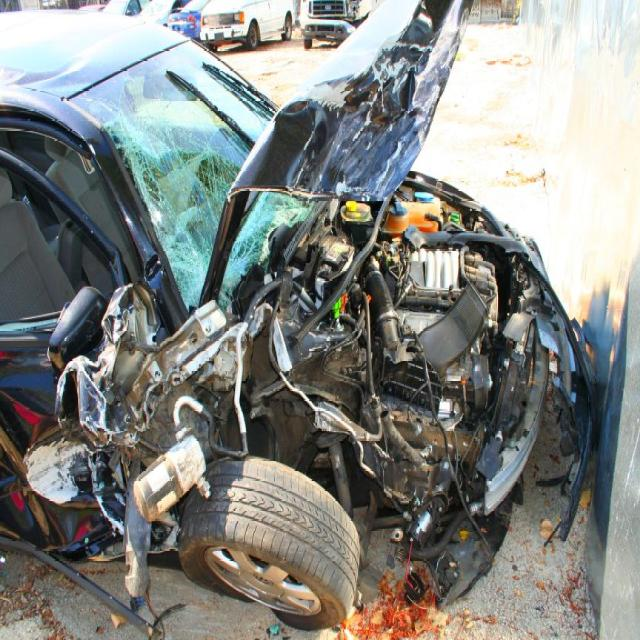crush: (0, 0, 596, 608)
